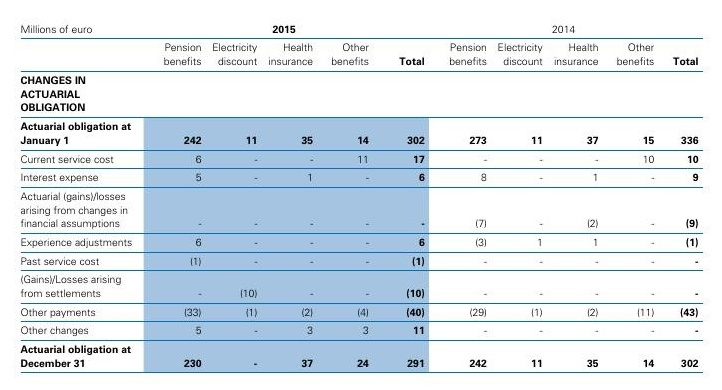table: (0, 0, 722, 390)
